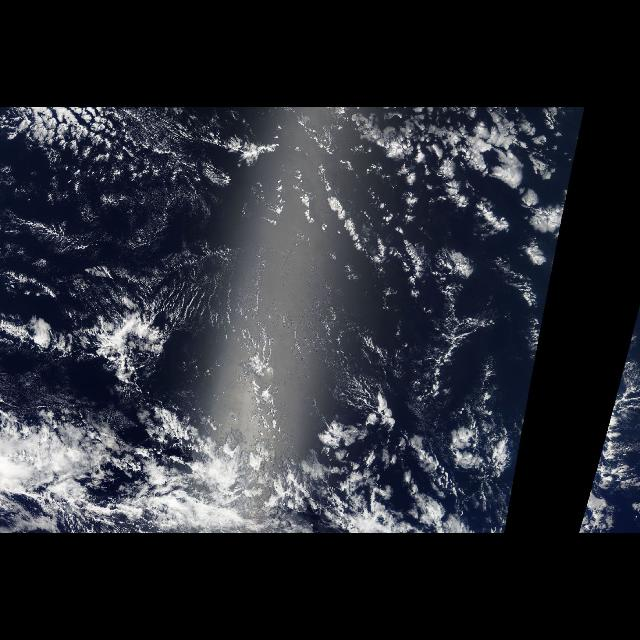Flower: (268, 112, 580, 314)
